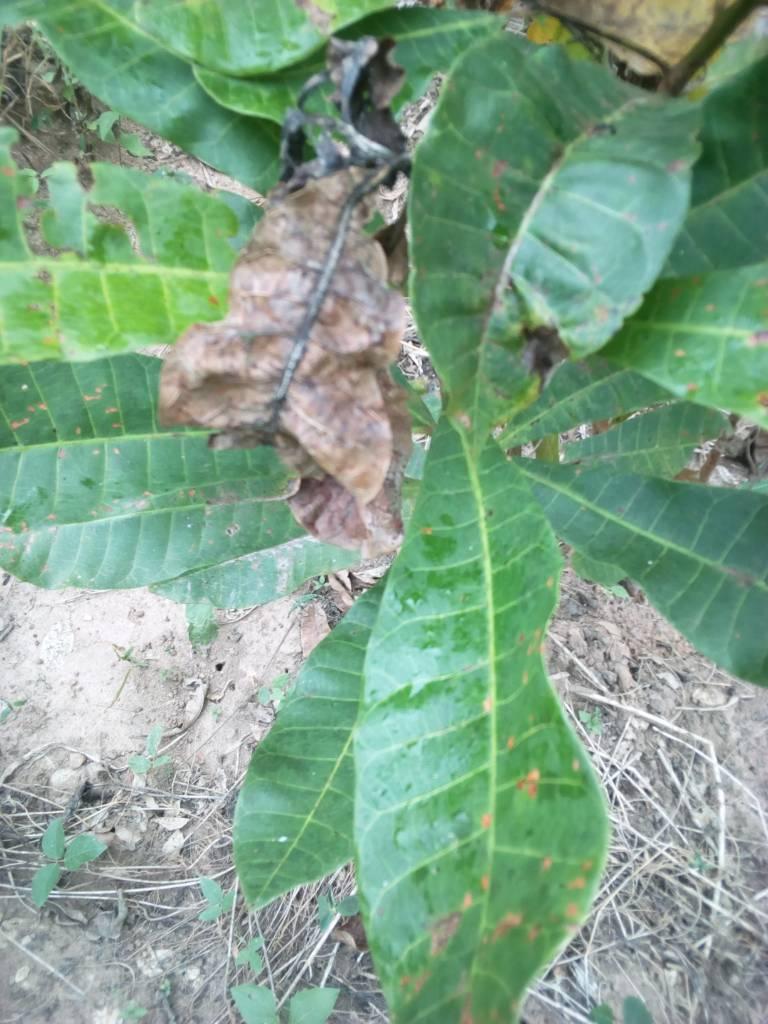Dessèchement des bourgeons: (279, 27, 392, 193)
